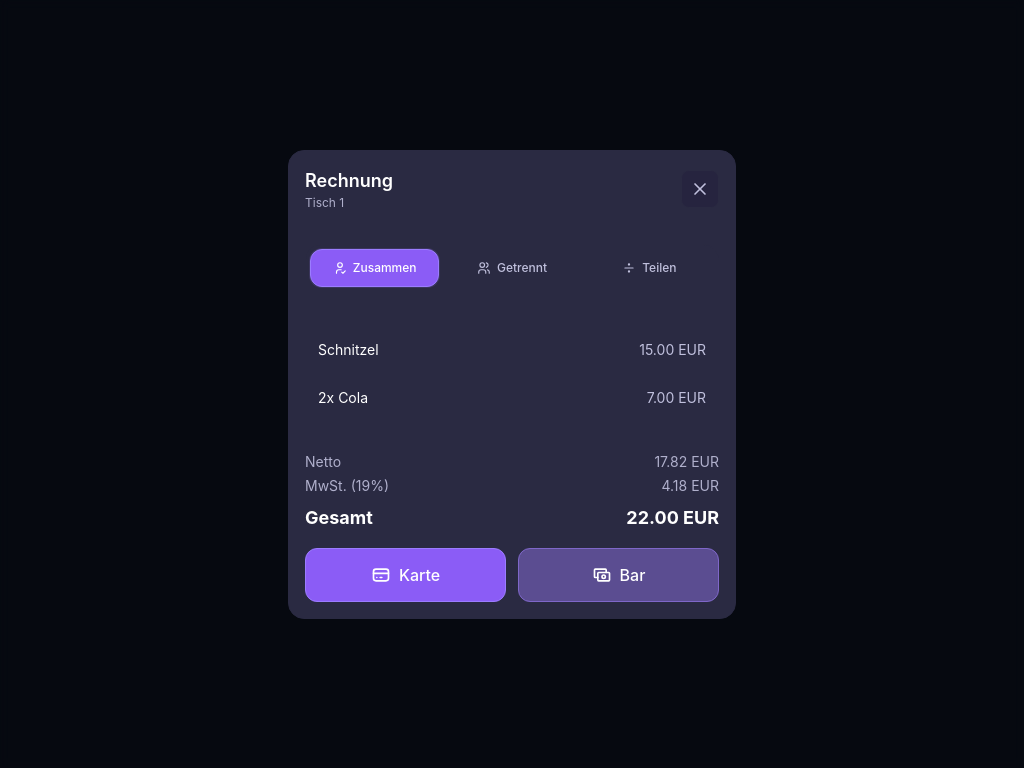
Test case: BillingModal › Tip Screen - Custom Tip › accepts custom tip with comma separator
Click the button "Karte" at (406,574), box [305, 548, 506, 602]
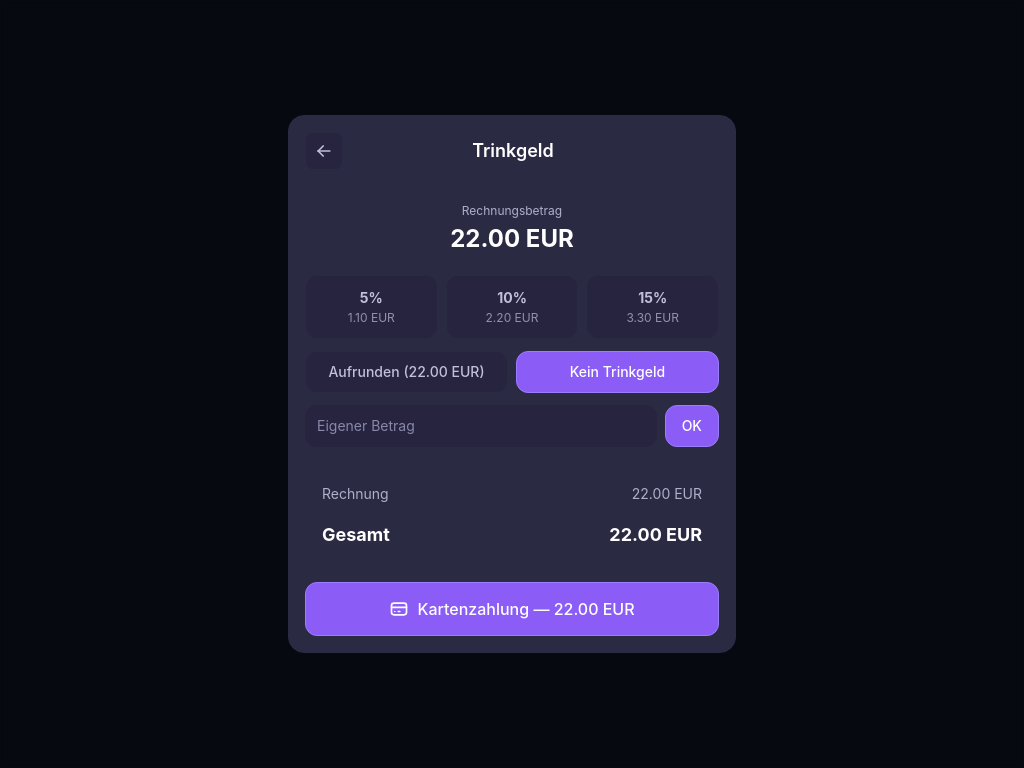
Type "2,50" into the field with placeholder "Eigener Betrag" at (481,426), box [305, 405, 657, 447]
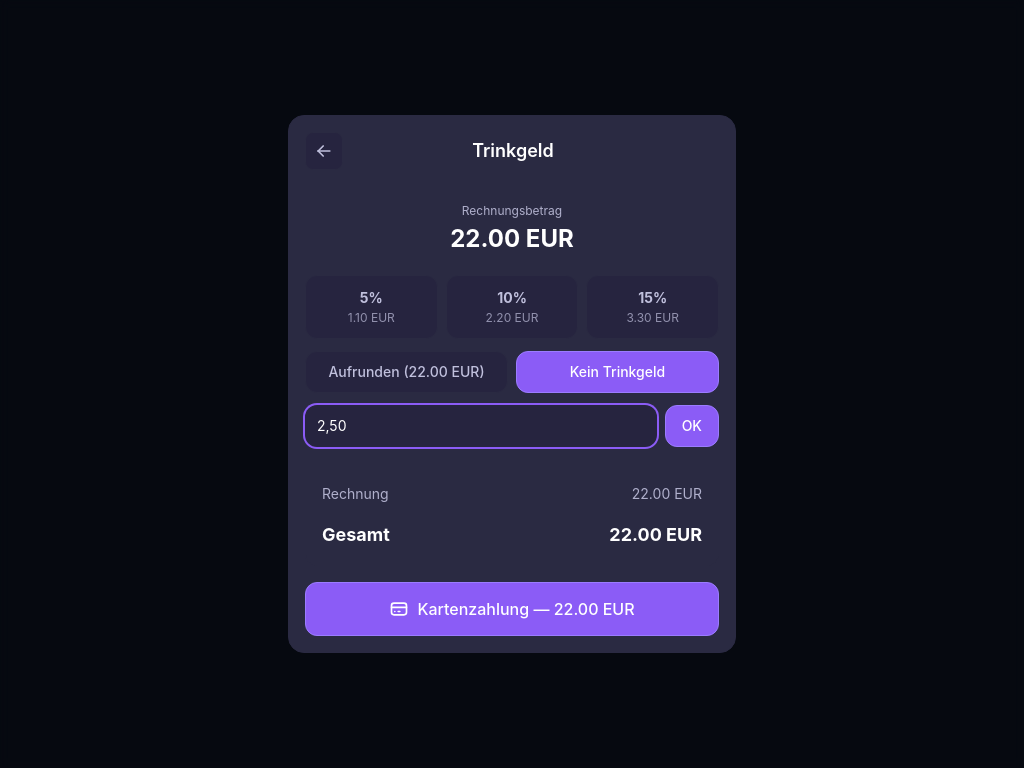
Click the button "OK" at (692,426), box [665, 405, 719, 447]
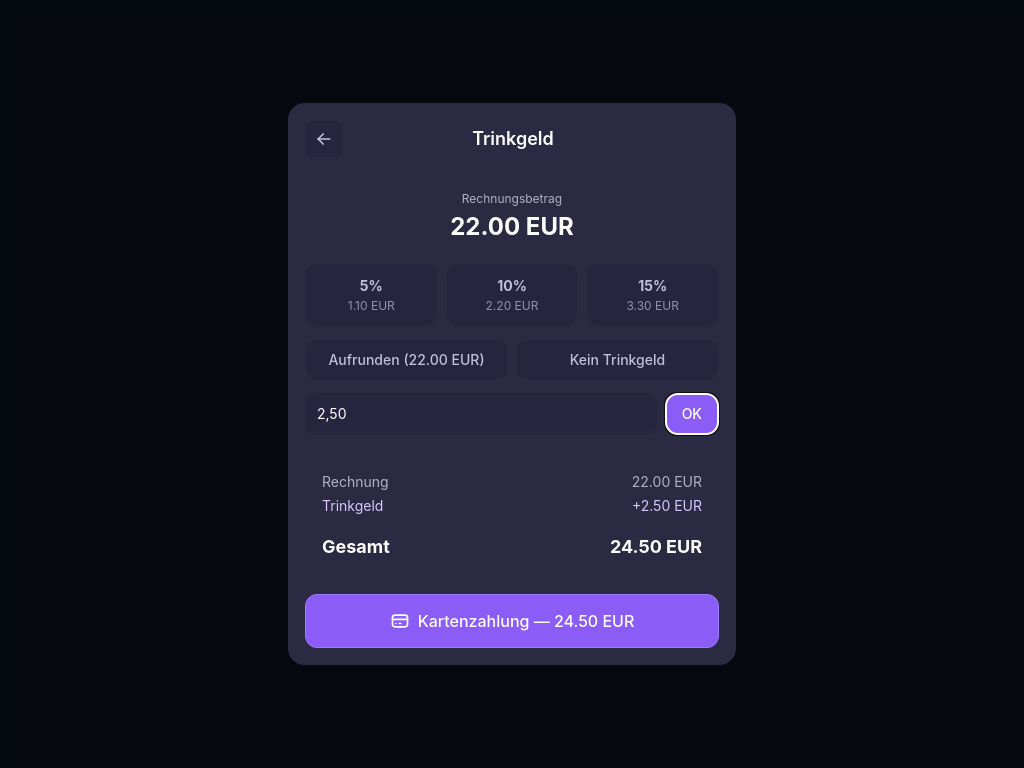
Expected: the text "+2.50 EUR" is shown, [632, 496, 702, 516]
